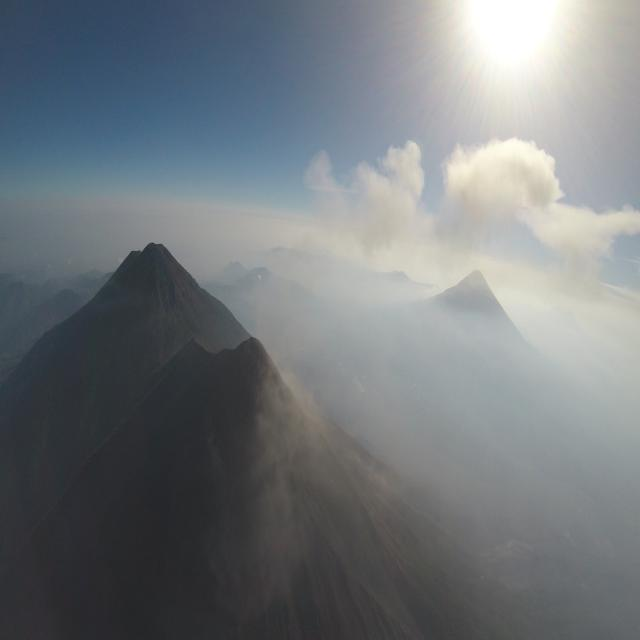Plume: (300, 126, 428, 256), (441, 128, 568, 226)
Summit: (216, 331, 272, 367)
